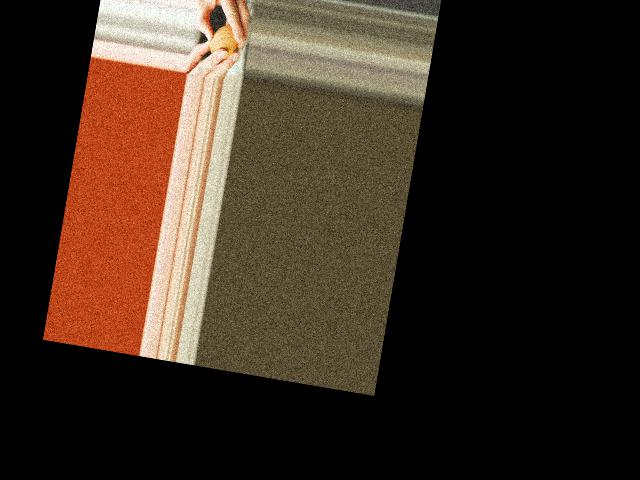egg: (207, 23, 241, 61)
